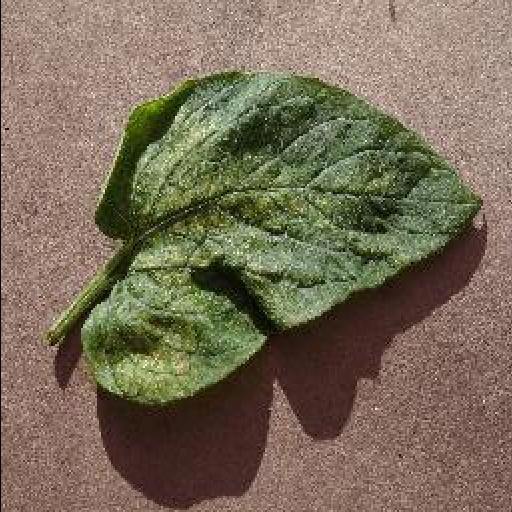disease_tomato: (80, 74, 484, 406)
